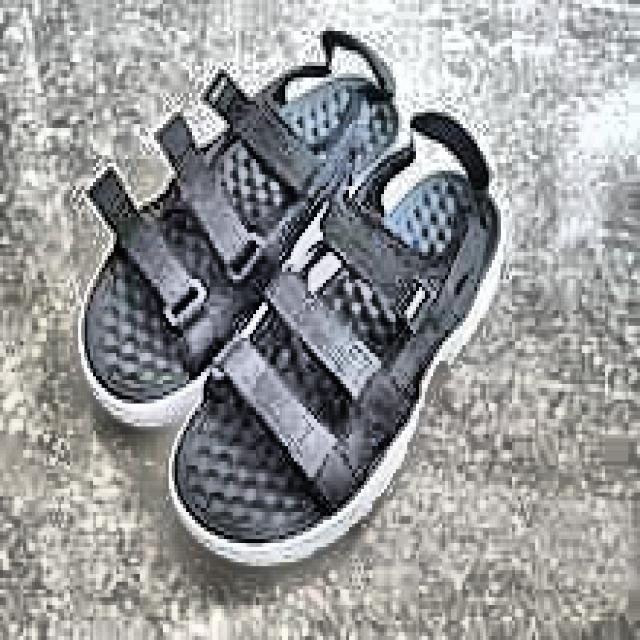shoes: (72, 20, 508, 572)
